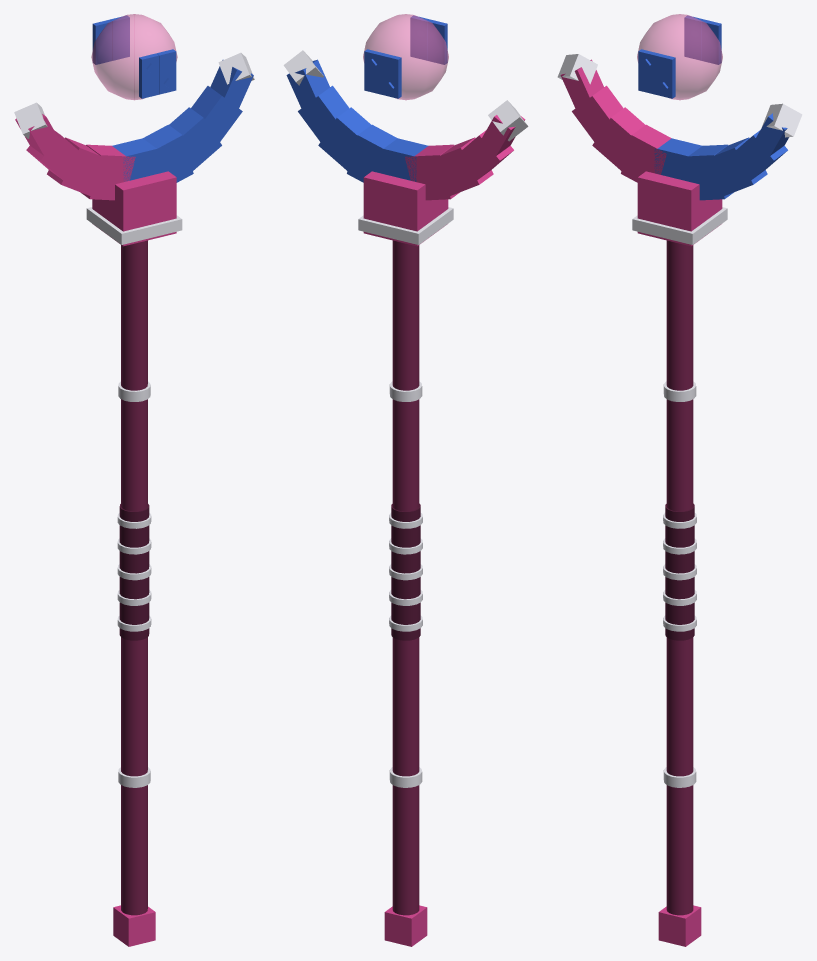
3 renders of one model, left to right at view 1: azimuth 30°, elevation 25°; view 2: azimuth 150°, elevation 25°; view 3: azimuth 330°, elevation 25°, orthographic.
Visible parts, largest first — view 1: twin-moon-staff; view 2: twin-moon-staff; view 3: twin-moon-staff.
Part boxes in pixels (box(x1,y1,x2,y2)): twin-moon-staff: box(14, 14, 254, 946); twin-moon-staff: box(283, 14, 528, 946); twin-moon-staff: box(557, 14, 802, 946).
Bounding box in the file's own units: 0.3735 × 1.4 × 0.1442.
